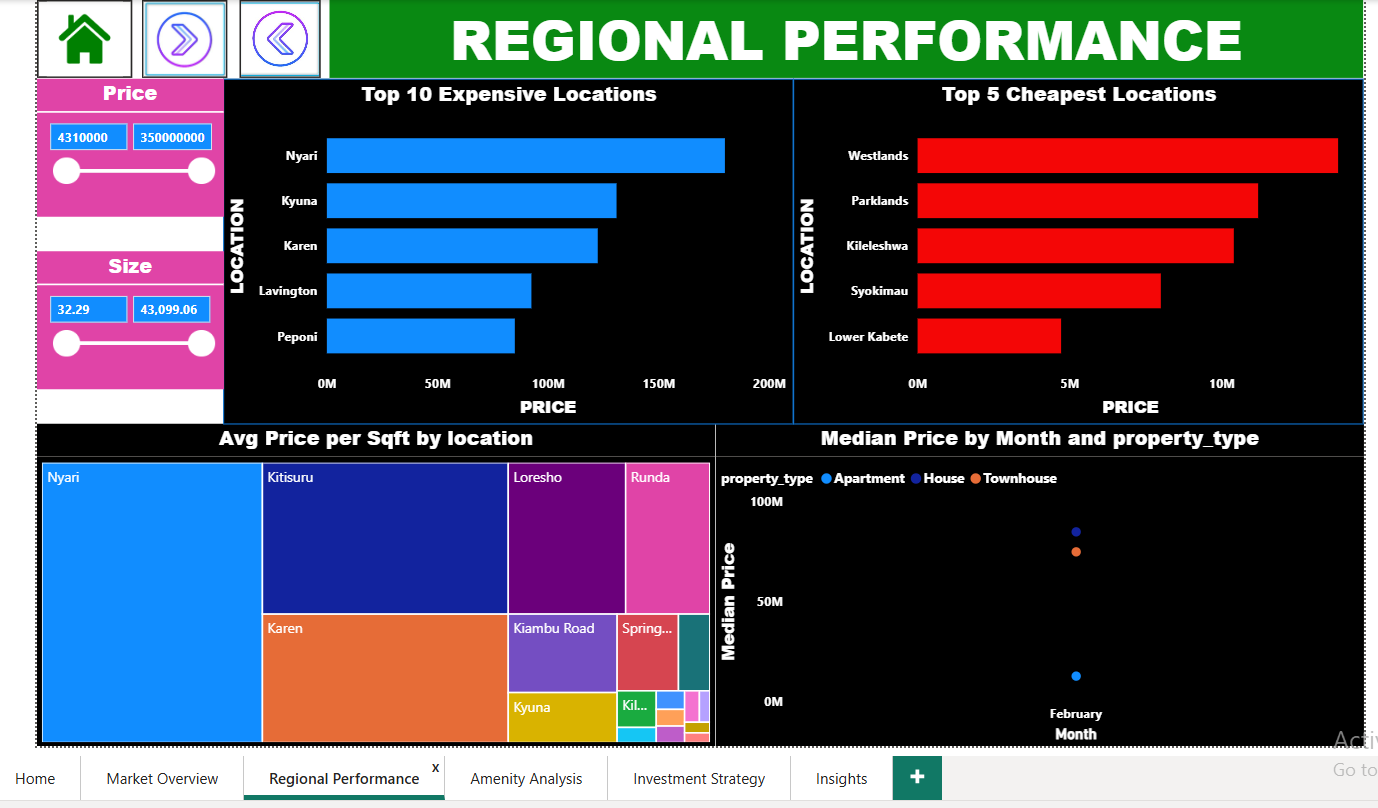

Layout of this report page (visuals, bound fields, positions):
{"tool":"powerbi","page":{"name":"Regional Performance","canvas":[1280,720],"ordinal":2},"visuals":[{"type":"treemap","fields":{"Group":["clean_listings.location"],"Values":["clean_listings.Avg Price per Sqft"]},"box":[0,408.9,654.5,311.5],"z":0},{"type":"lineChart","fields":{"Category":["clean_listings.listing_date.Variation.Date Hierarchy.Month"],"Y":["clean_listings.Median Price"],"Series":["clean_listings.property_type"]},"box":[654.5,408.9,625.7,311.5],"z":1000},{"type":"clusteredBarChart","title":"Top 10 Expensive Locations","fields":{"Category":["clean_listings.location"],"Y":["clean_listings.Median Price"]},"box":[179.8,75.5,550.3,333.4],"z":2000},{"type":"clusteredBarChart","title":"Top 5 Cheapest Locations","fields":{"Category":["clean_listings.location"],"Y":["clean_listings.Median Price"]},"box":[730,75.5,550.3,333.4],"z":3000},{"type":"textbox","title":"REGIONAL PERFORMANCE","box":[282.7,0,997.6,75.5],"z":4000},{"type":"slicer","title":"Price","fields":{"Values":["clean_listings.price_kes"]},"box":[0,75.5,179.8,133.1],"z":5000},{"type":"slicer","title":"Size","fields":{"Values":["clean_listings.size_sqft"]},"box":[0,242.9,179.8,133.1],"z":6000},{"type":"image","box":[0,0,91.9,75.5],"z":7000},{"type":"image","box":[101.5,0,82.3,75.5],"z":8000},{"type":"image","box":[194.9,0,78.2,75.5],"z":9000}]}

Visuals, with their boxes on the page's 1280x720 design canvas (x1, y1, x2, y2). These are canvas units, not pixel positions in the 1378x808 screenshot, which may show the page scaled, cropped or inside an application window:
treemap - clean_listings.location x clean_listings.Avg Price per Sqft: locate(0, 409, 654, 720)
lineChart - clean_listings.listing_date.Variation.Date Hierarchy.Month x clean_listings.Median Price: locate(654, 409, 1280, 720)
"Top 10 Expensive Locations" clusteredBarChart: locate(180, 76, 730, 409)
"Top 5 Cheapest Locations" clusteredBarChart: locate(730, 76, 1280, 409)
"REGIONAL PERFORMANCE" textbox: locate(283, 0, 1280, 76)
"Price" slicer: locate(0, 76, 180, 209)
"Size" slicer: locate(0, 243, 180, 376)
image: locate(0, 0, 92, 76)
image: locate(102, 0, 184, 76)
image: locate(195, 0, 273, 76)
